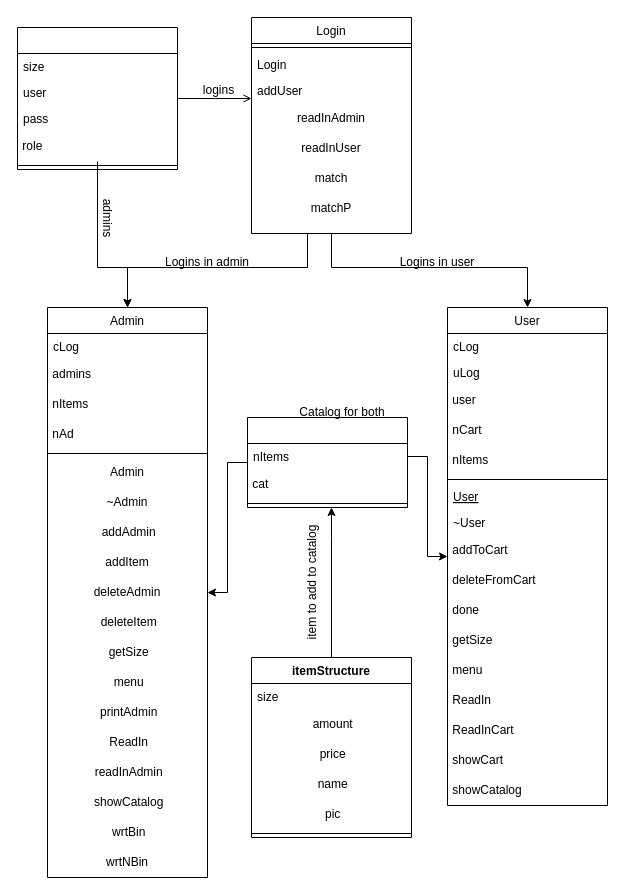
This 625x895 diagram has some shape labels left out. Each missing label, with the box of its shape:
catStruct: (246, 416, 408, 508)
profile: (16, 26, 178, 170)
